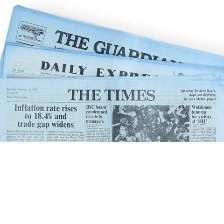news_paper: (0, 2, 224, 78), (0, 75, 224, 143), (1, 41, 223, 83)
